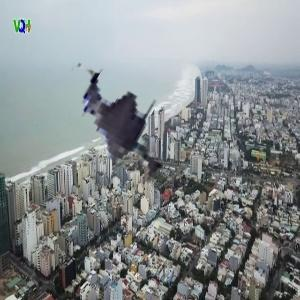drone: (20, 56, 205, 241)
